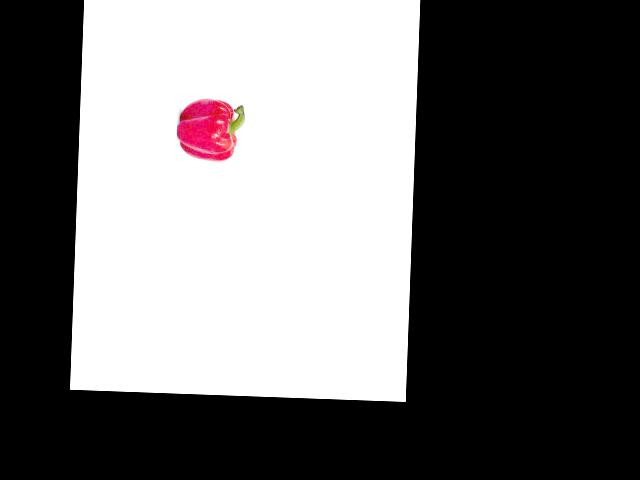bell_pepper: (176, 96, 246, 166)
